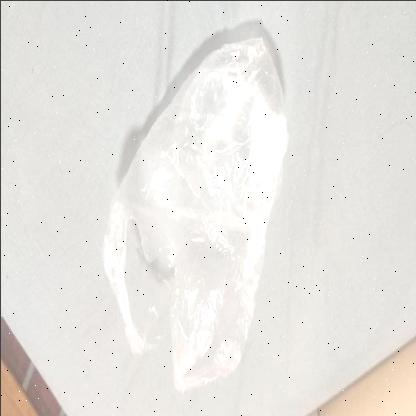Others: (102, 35, 290, 393)
